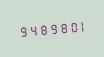eight: (37, 21, 46, 37), (57, 19, 66, 35)
four: (27, 22, 36, 38)
nine: (17, 23, 26, 39), (47, 20, 56, 36)
one: (77, 17, 86, 33)
zero: (67, 18, 76, 34)
